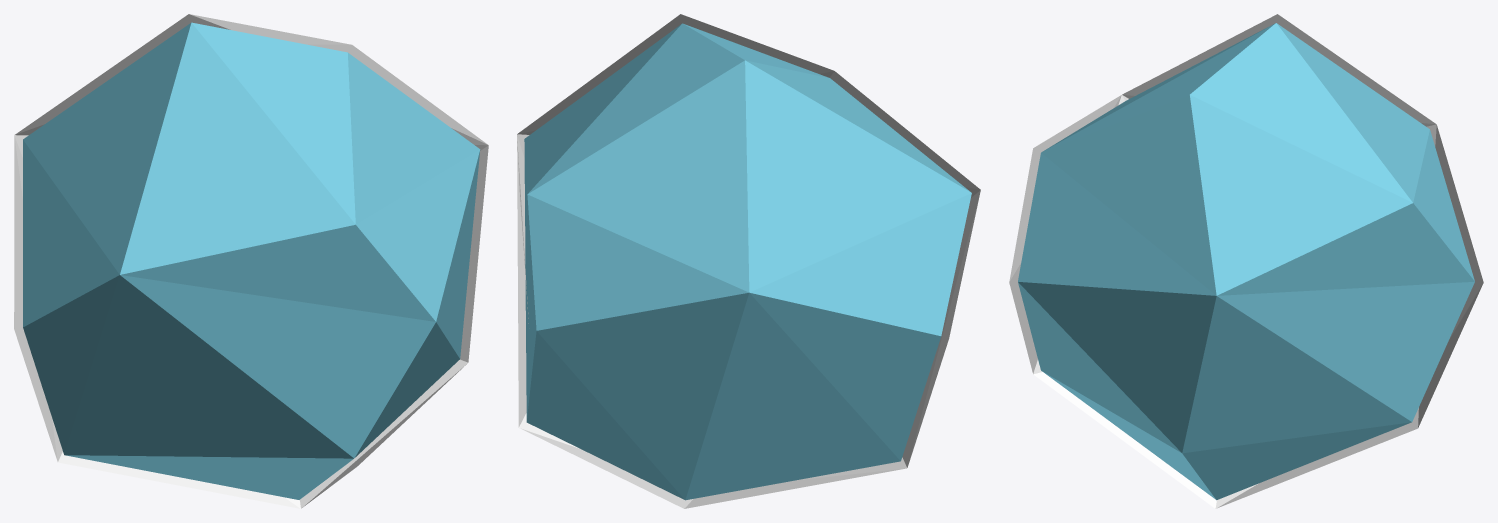
Rendered from cloud2-DTT9mIcp.glb.
3 views of the same model, side by side, from view 1: azimuth 30°, elevation 25°; view 2: azimuth 150°, elevation 25°; view 3: azimuth 270°, elevation 25° (orthographic). The views are drawn at different scales.
Parts seen in each view (by area): view 1: Icosphere.030, Icosphere.056; view 2: Icosphere.030, Icosphere.056; view 3: Icosphere.030, Icosphere.056.
Boxes of the visible parts, x1=… form: Icosphere.030: x1=23, y1=22, x2=480, y2=499; Icosphere.056: x1=14, y1=14, x2=488, y2=508; Icosphere.030: x1=524, y1=23, x2=971, y2=500; Icosphere.056: x1=517, y1=14, x2=980, y2=508; Icosphere.030: x1=1018, y1=23, x2=1474, y2=500; Icosphere.056: x1=1009, y1=14, x2=1483, y2=508.
Bounding box in the file's own units: 0.8193 × 0.8379 × 0.7854.
